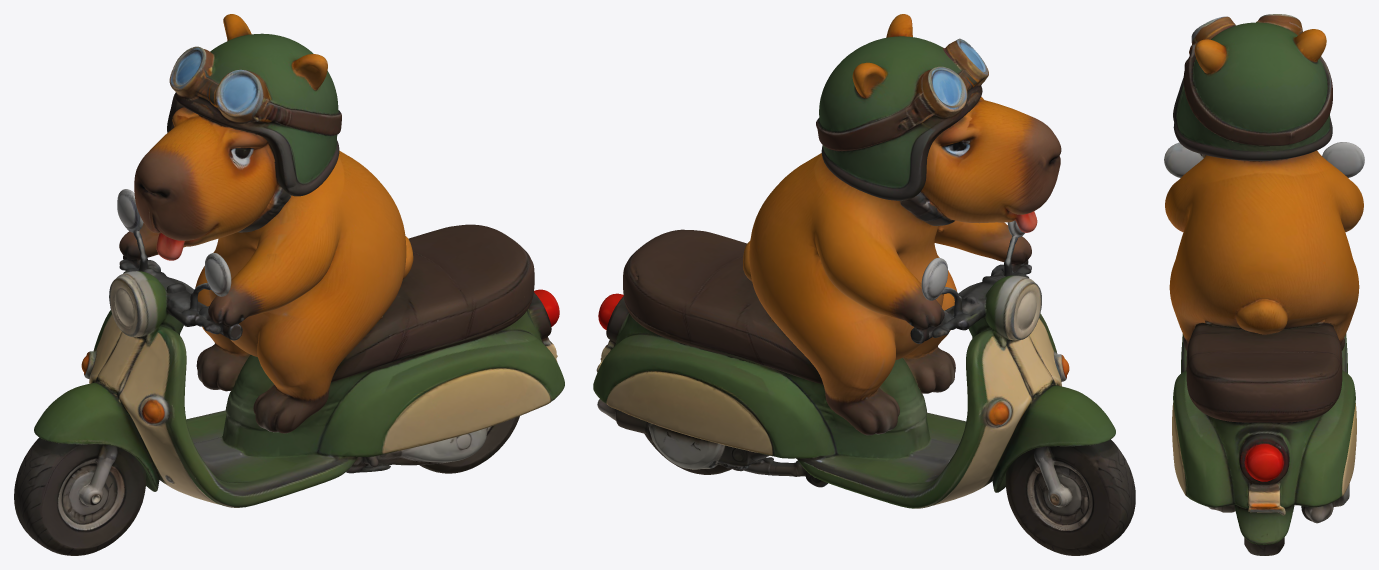
Rendered from capybara-driving.glb.
3 renders of one model, left to right at view 1: azimuth 30°, elevation 25°; view 2: azimuth 150°, elevation 25°; view 3: azimuth 270°, elevation 25°, orthographic. The views are drawn at different scales.
Visible parts, largest first — view 1: tripo_node_e3ee2e38-106f-4e69-82d9-43effeadbc9c; view 2: tripo_node_e3ee2e38-106f-4e69-82d9-43effeadbc9c; view 3: tripo_node_e3ee2e38-106f-4e69-82d9-43effeadbc9c.
Boxes of the visible parts, box(x1,y1,x2,y2) form: tripo_node_e3ee2e38-106f-4e69-82d9-43effeadbc9c: box(14, 14, 564, 555); tripo_node_e3ee2e38-106f-4e69-82d9-43effeadbc9c: box(593, 14, 1135, 555); tripo_node_e3ee2e38-106f-4e69-82d9-43effeadbc9c: box(1164, 14, 1364, 555).
Bounding box in the file's own units: 0.9999 × 0.8564 × 0.3586.
1 material, 1 textured.
